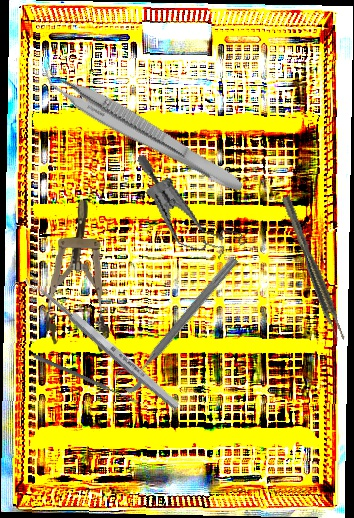Fixation Ring: (110, 246, 243, 397)
Speculum: (114, 152, 263, 268), (44, 197, 117, 353)
Surgical Spoon: (23, 272, 182, 412), (33, 354, 140, 405)
Tissue Forceps: (33, 60, 252, 197), (281, 193, 347, 344)
